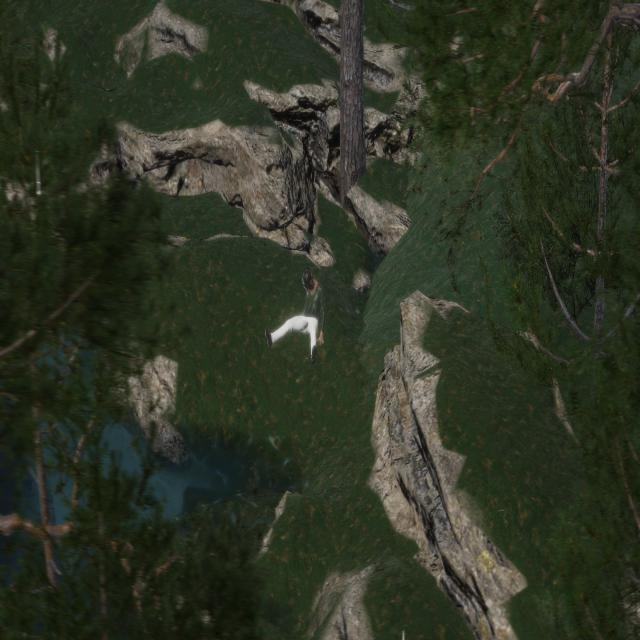Human: (258, 258, 337, 369)
